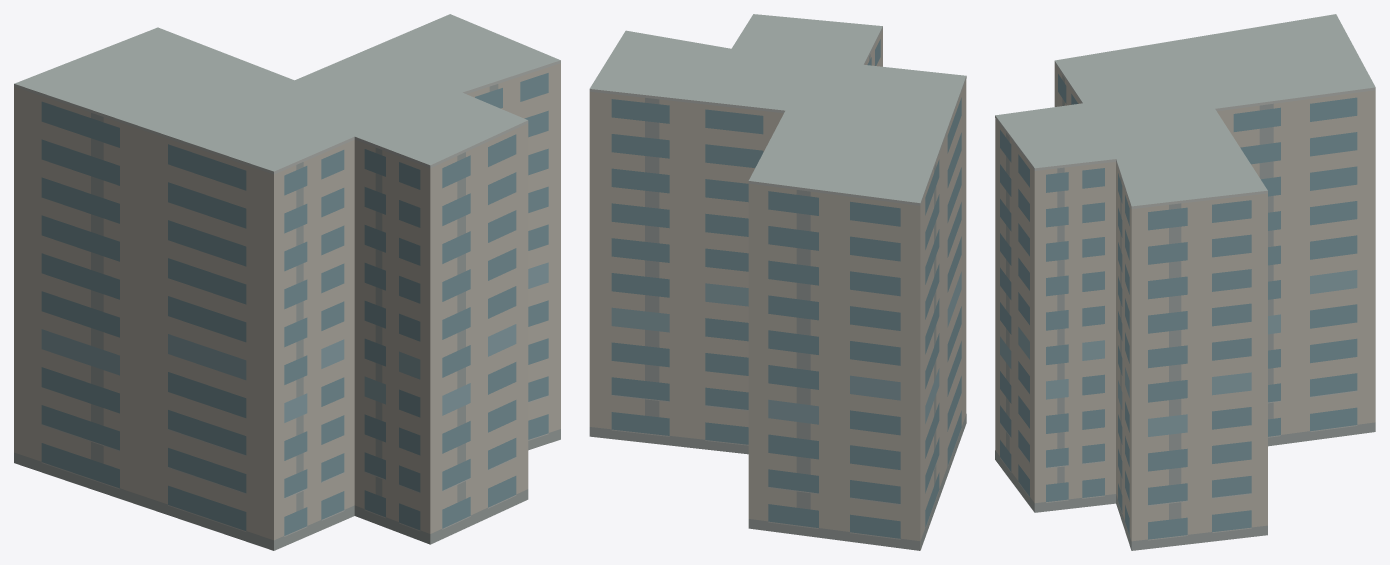
File: residential-597bafda-3761-4473-a80b-231078eed865.glb
The picture shows the model from 3 angles, left to right: view 1: azimuth 30°, elevation 25°; view 2: azimuth 150°, elevation 25°; view 3: azimuth 270°, elevation 25°; orthographic projection. The views are drawn at different scales.
Parts seen in each view (by area): view 1: residential-597bafda-3761-4473-a80b-231078eed865.tmp; view 2: residential-597bafda-3761-4473-a80b-231078eed865.tmp; view 3: residential-597bafda-3761-4473-a80b-231078eed865.tmp.
Part boxes in pixels (bbox=[...]): residential-597bafda-3761-4473-a80b-231078eed865.tmp: bbox=[14, 14, 560, 550]; residential-597bafda-3761-4473-a80b-231078eed865.tmp: bbox=[589, 14, 966, 550]; residential-597bafda-3761-4473-a80b-231078eed865.tmp: bbox=[995, 14, 1375, 550].
Bounding box in the file's own units: 37.14 × 31 × 31.05.
